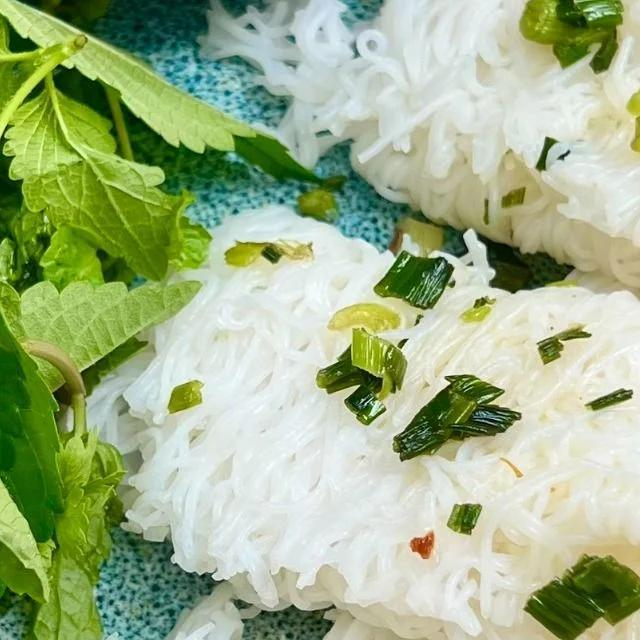banh hoi: (37, 176, 640, 640), (176, 0, 640, 393)
banh hoi heo quay: (0, 0, 640, 640)
